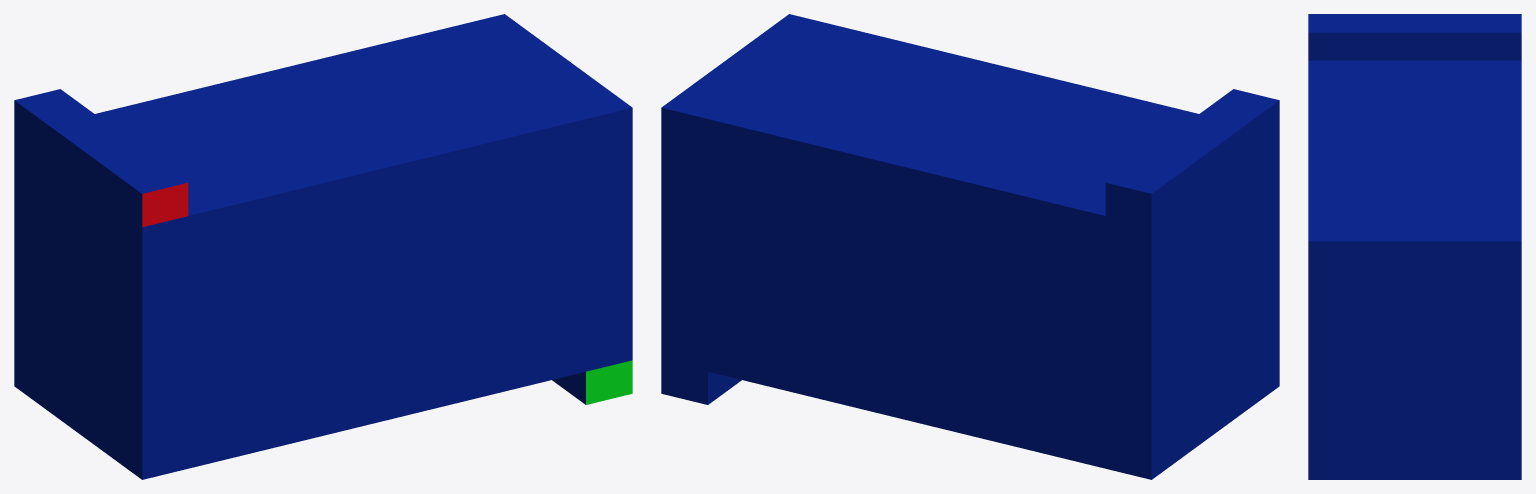
File: ground.dae
3 views of the same model, side by side, from view 1: azimuth 30°, elevation 25°; view 2: azimuth 150°, elevation 25°; view 3: azimuth 270°, elevation 25° (orthographic). The views are drawn at different scales.
Visible parts, largest first — view 1: Cube.001; view 2: Cube.001; view 3: Cube.001.
Boxes of the visible parts, <box> form: Cube.001: <box>14,14,632,479</box>; Cube.001: <box>661,14,1279,479</box>; Cube.001: <box>1308,14,1521,479</box>.
Size of the model in its own units: 4.42 by 2 by 2.75.
